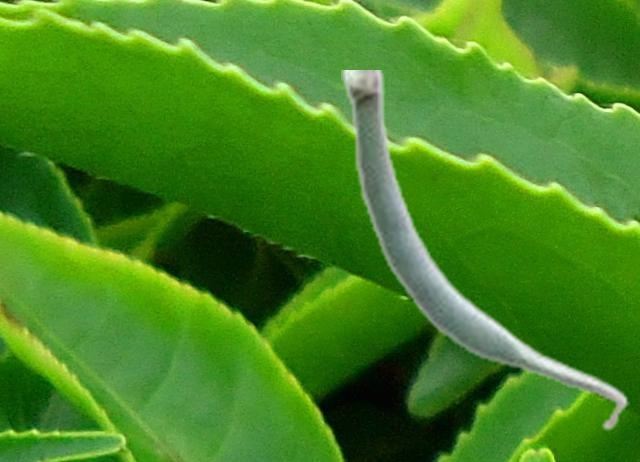french_bean: (341, 70, 628, 432)
